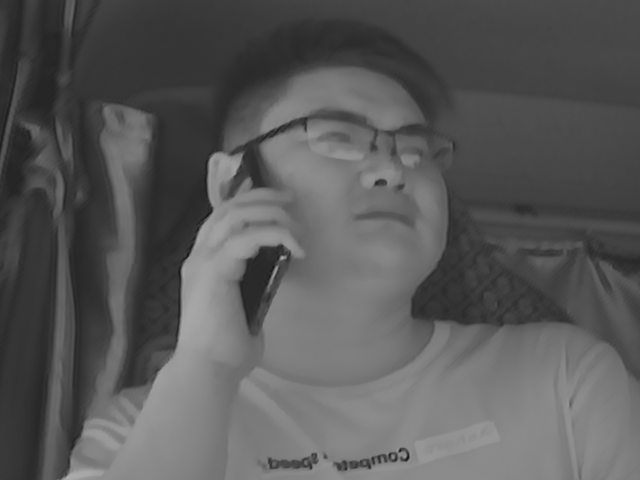hand: (174, 185, 301, 368)
